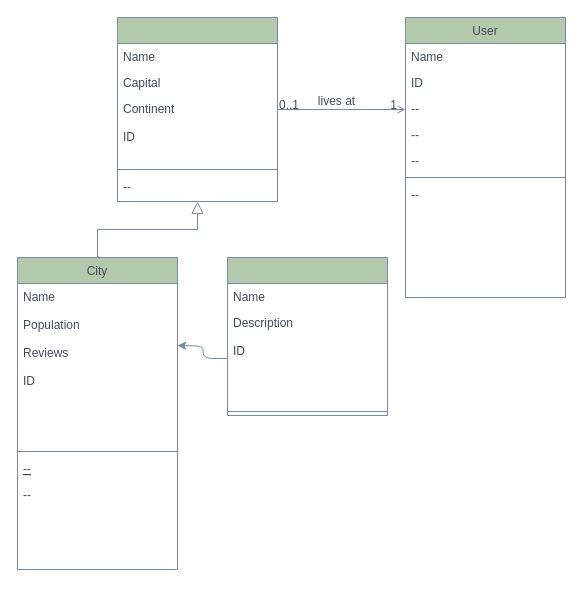
Some shapes in this 583 by 590 pixel diagram are drawn without their labels. The shapes that lost their labels are listed below. From the top down, each one's box as (x1, y1, x2, y2) in pixels, then its label:
(116, 16, 278, 202): Country
(226, 256, 388, 416): Sight
